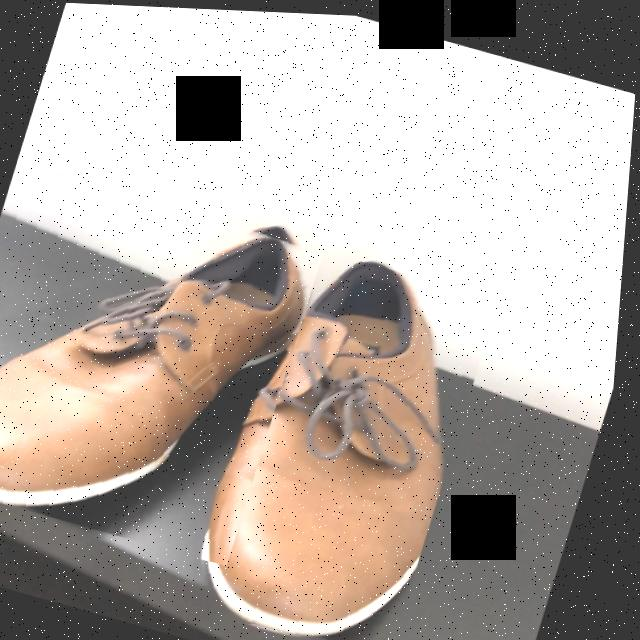shoe: (214, 259, 448, 635), (0, 233, 311, 507)
